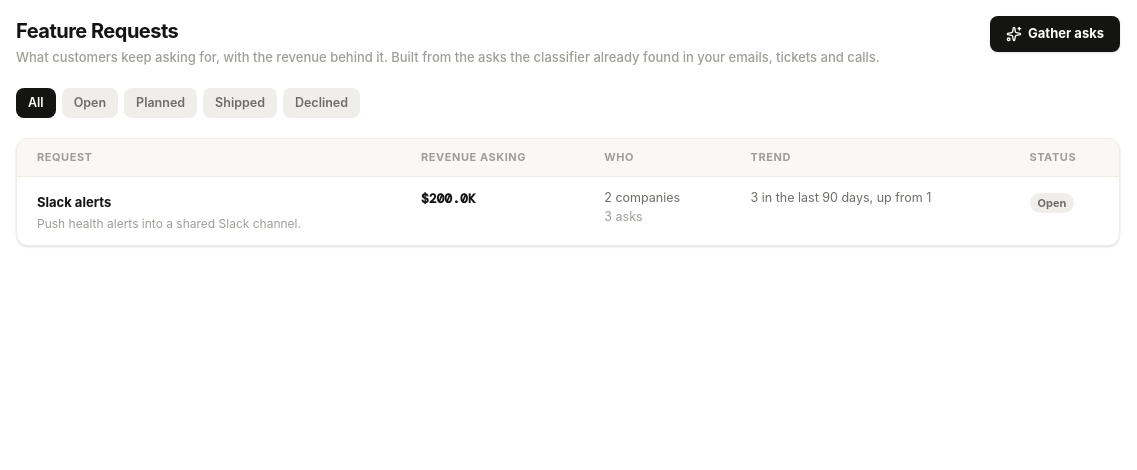
FeatureRequestsPage › opens one and shows the companies asking and the evidence
Click the button with aria-label "Open Slack alerts". click: (74, 203)
box: [37,193,111,212]
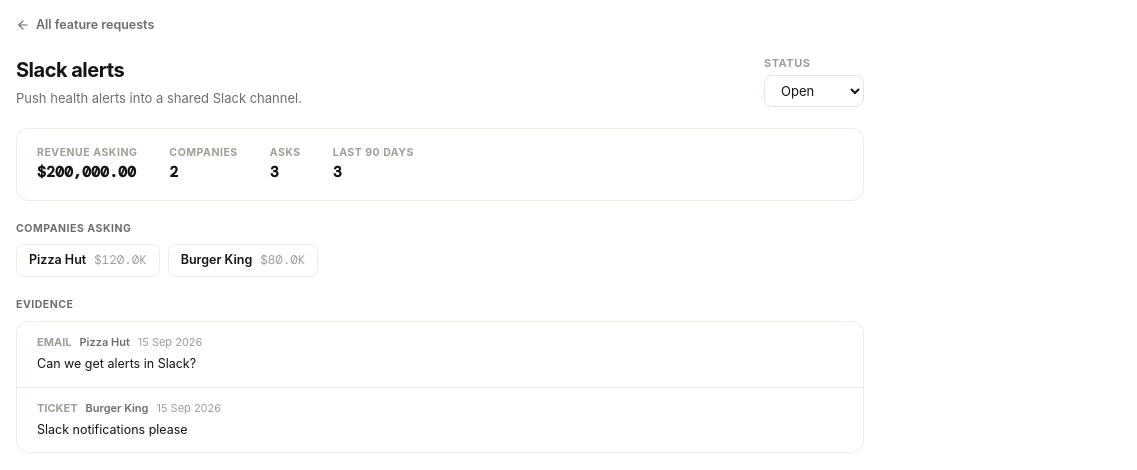
Expected: the text "Push health alerts into a shared Slack channel." is shown, [16,89,302,108]
Expected: the text "Can we get alerts in Slack?" is shown, [37,356,196,371]
Expected: the text "Slack notifications please" is shown, [37,422,188,437]
